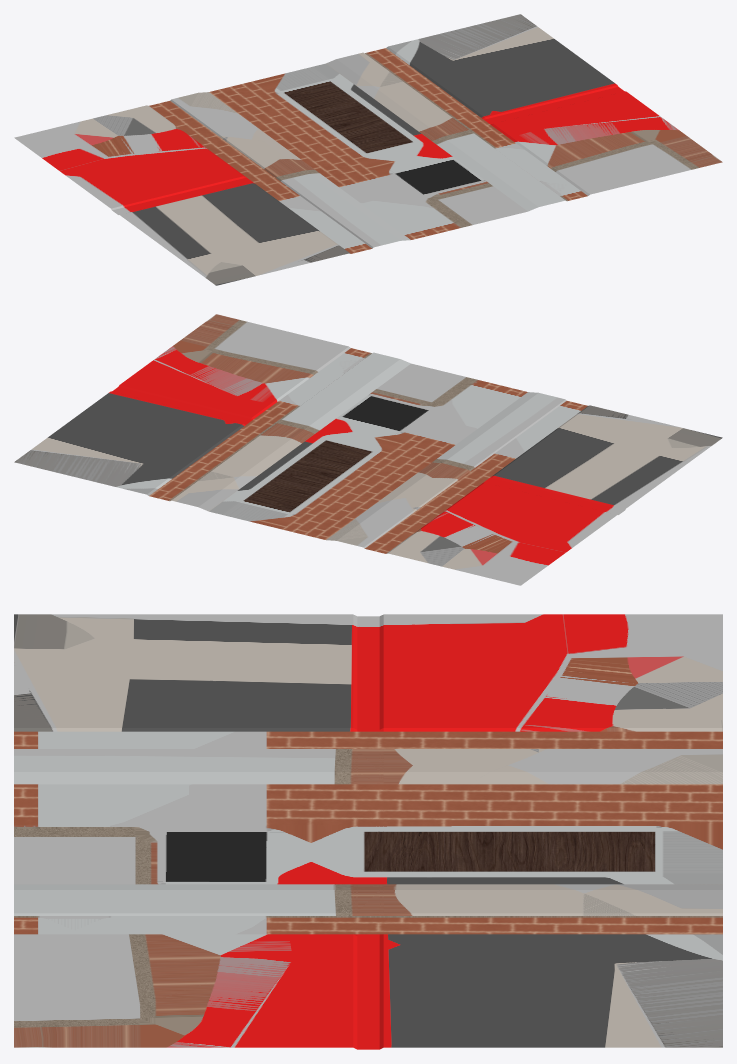
Rendered from Map.fbx.
3 views of the same model, one above another, from view 1: azimuth 30°, elevation 25°; view 2: azimuth 150°, elevation 25°; view 3: azimuth 270°, elevation 25° (orthographic). The views are drawn at different scales.
Parts seen in each view (by area): view 1: World; view 2: World; view 3: World.
Boxes of the visible parts, x1,y1,x2,y2 form: World: [14, 14, 722, 285]; World: [14, 314, 722, 585]; World: [14, 614, 722, 1049].
Size of the model in its own units: 5804 by 20.35 by 4014.
